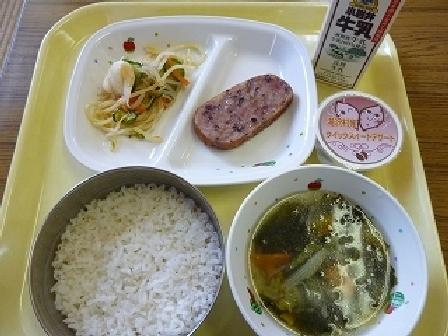Milk: (314, 0, 406, 84)
Rice: (37, 166, 222, 332)
meat product: (191, 64, 300, 155)
salad with sauce: (91, 45, 199, 139)
vegetable soup: (234, 177, 418, 335)
